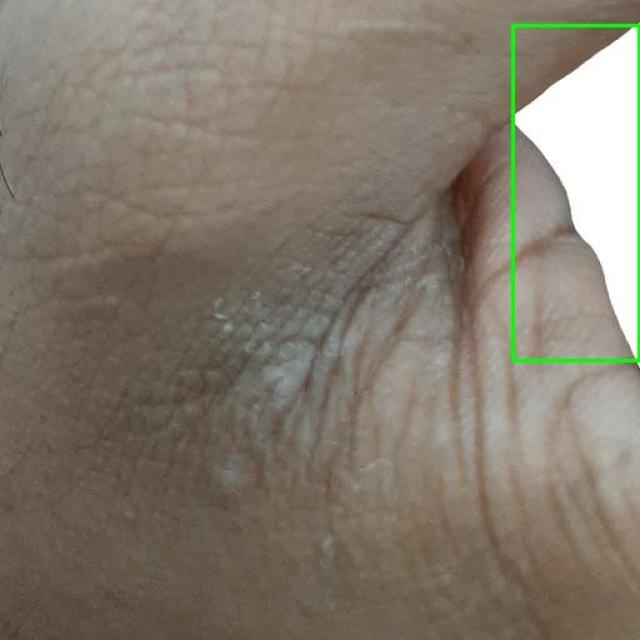Scabies: (512, 25, 639, 360)
